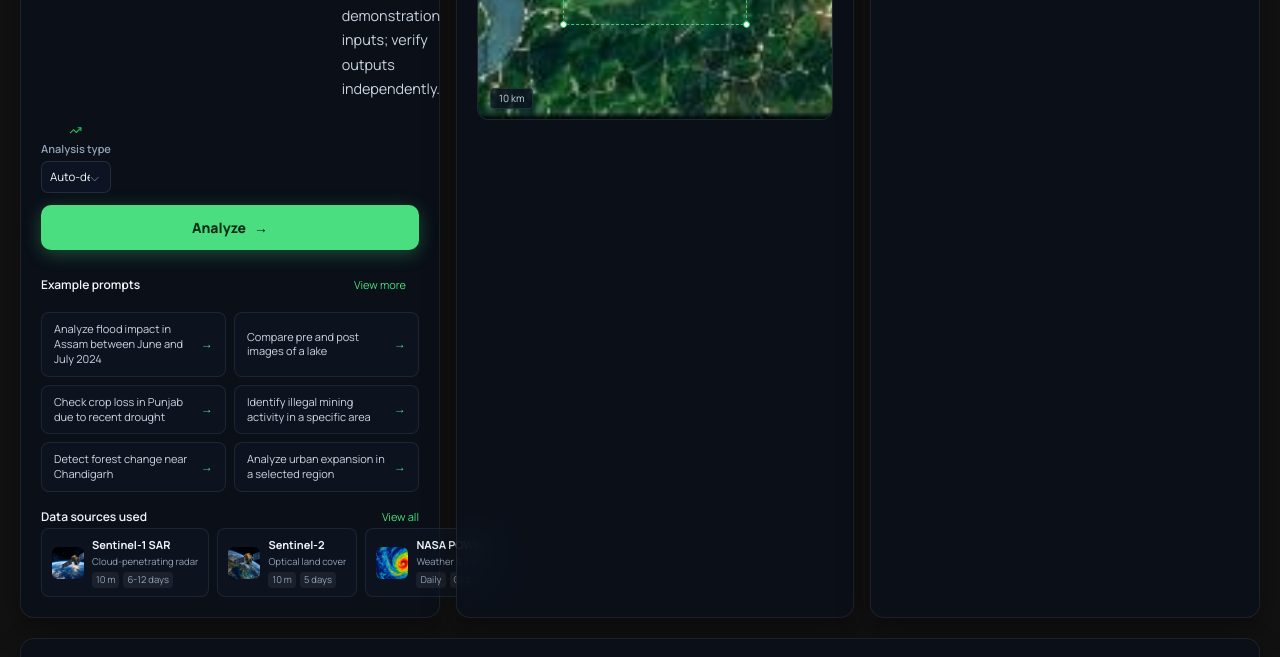
Test: selects an example prompt without displaying its illustrative results as live
(page scrolled)
Click the button "Compare pre and post images of a lake →" at (326, 344), box [234,312,419,377]
(page scrolled)
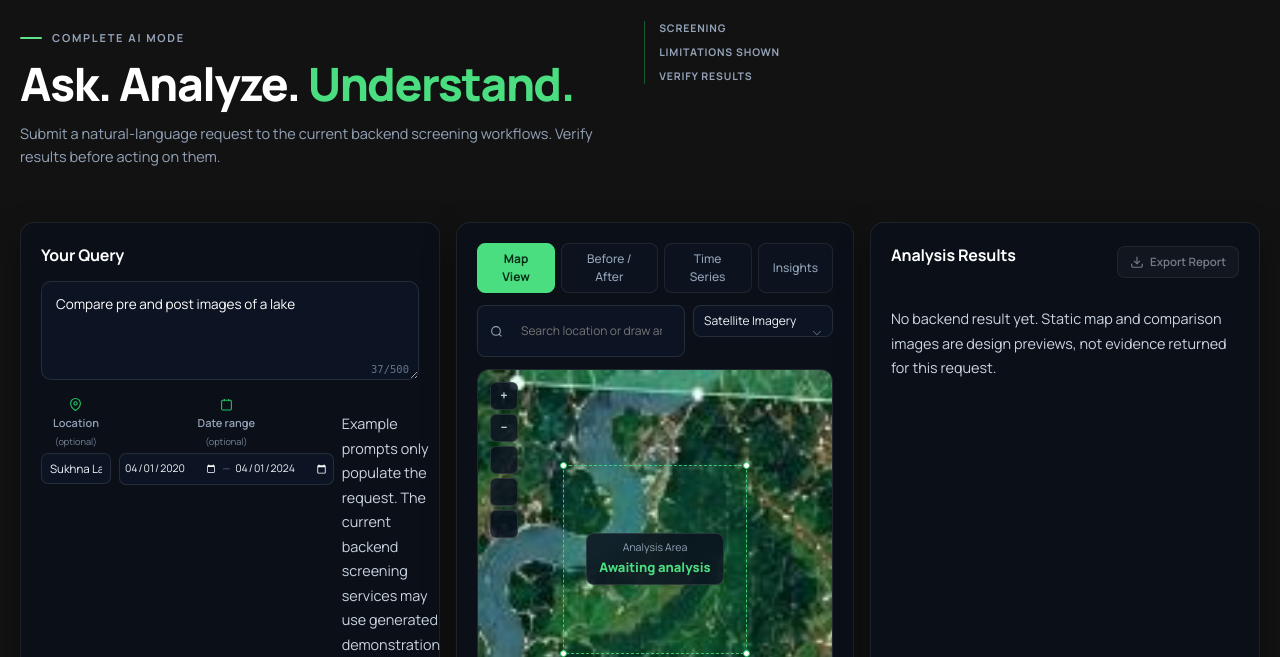
Expected: the text "No backend result yet" is shown, [891,310,1227,378]
Result: the text box named "Your Query Description" holds "Compare pre and post images of a lake" at [41,281,419,380]
